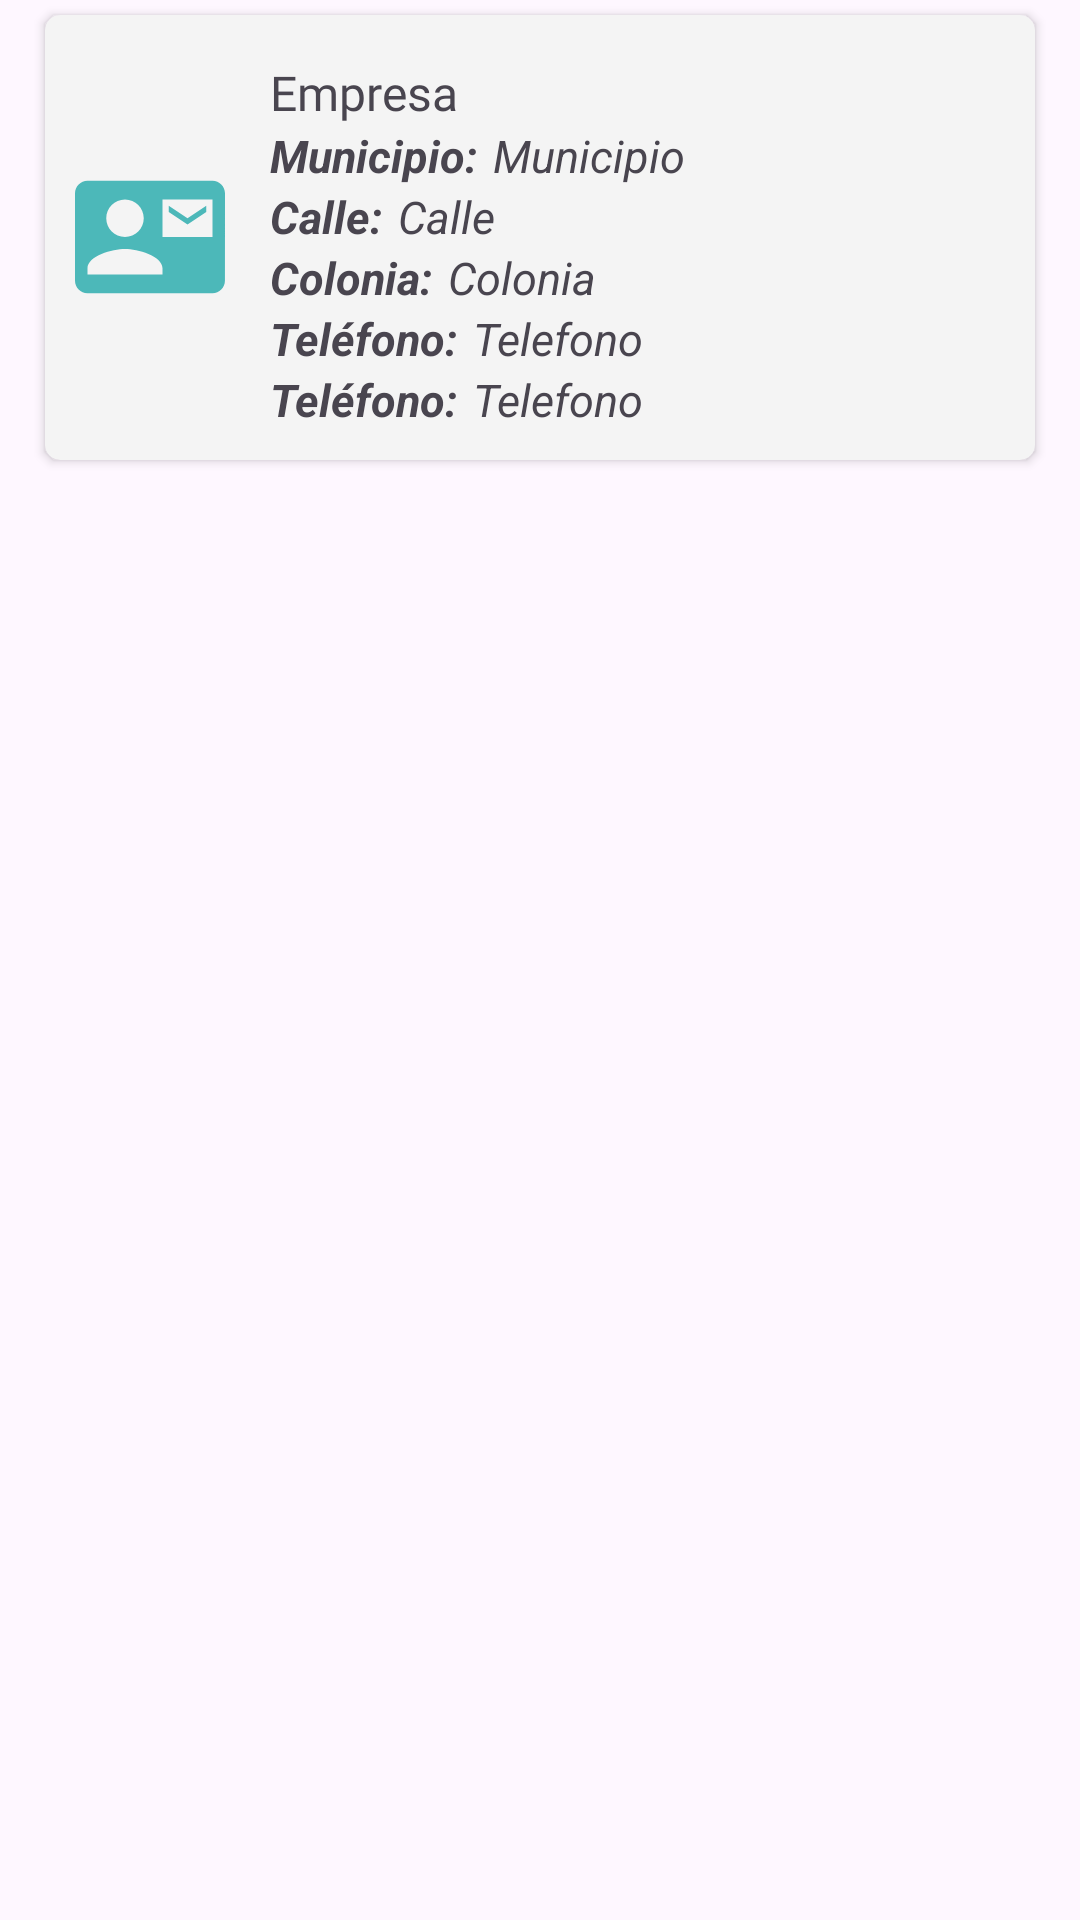

Icon click points for this 1080×1920 phone screenshot, format (x,y):
contact mail: (150,237)
